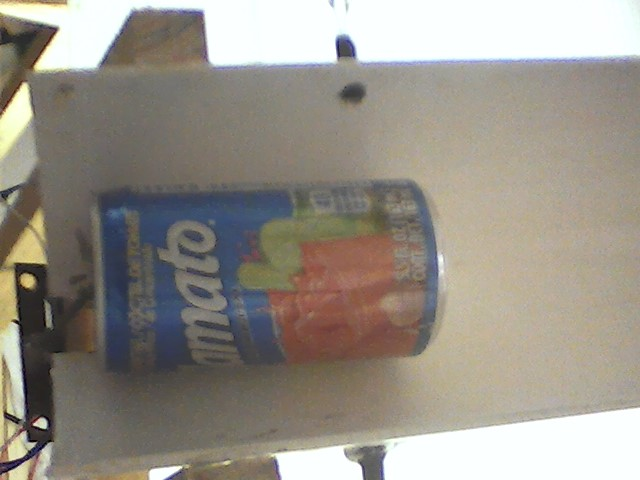lata: (86, 175, 453, 378)
